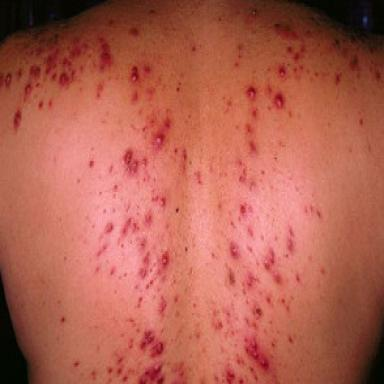acne: (250, 338, 269, 368), (139, 363, 164, 383), (62, 45, 81, 69), (99, 38, 112, 70), (123, 149, 139, 174), (275, 24, 298, 40), (46, 50, 59, 73), (121, 218, 138, 235), (139, 252, 150, 278), (140, 331, 155, 349), (264, 247, 275, 270), (13, 109, 22, 131), (229, 241, 240, 258), (287, 226, 294, 252), (246, 272, 257, 288), (158, 296, 167, 315), (151, 342, 163, 356), (153, 133, 164, 148), (253, 303, 263, 319), (29, 66, 41, 79), (161, 250, 169, 269), (226, 367, 235, 383), (246, 86, 257, 99), (59, 73, 70, 86), (24, 83, 31, 101), (273, 270, 282, 284), (143, 213, 152, 227), (275, 93, 283, 108), (131, 67, 139, 82), (182, 149, 187, 172), (249, 140, 257, 153), (164, 117, 171, 130), (278, 66, 286, 77), (335, 72, 342, 84), (245, 124, 253, 134), (5, 73, 11, 86), (106, 222, 113, 233), (140, 237, 146, 249), (131, 91, 138, 101), (293, 53, 300, 62), (142, 157, 147, 167), (144, 66, 151, 73), (161, 197, 166, 206), (240, 205, 245, 214), (38, 100, 43, 109), (253, 109, 257, 118), (287, 47, 293, 53), (52, 73, 57, 80), (89, 160, 94, 167), (49, 99, 53, 107), (162, 134, 164, 139)
